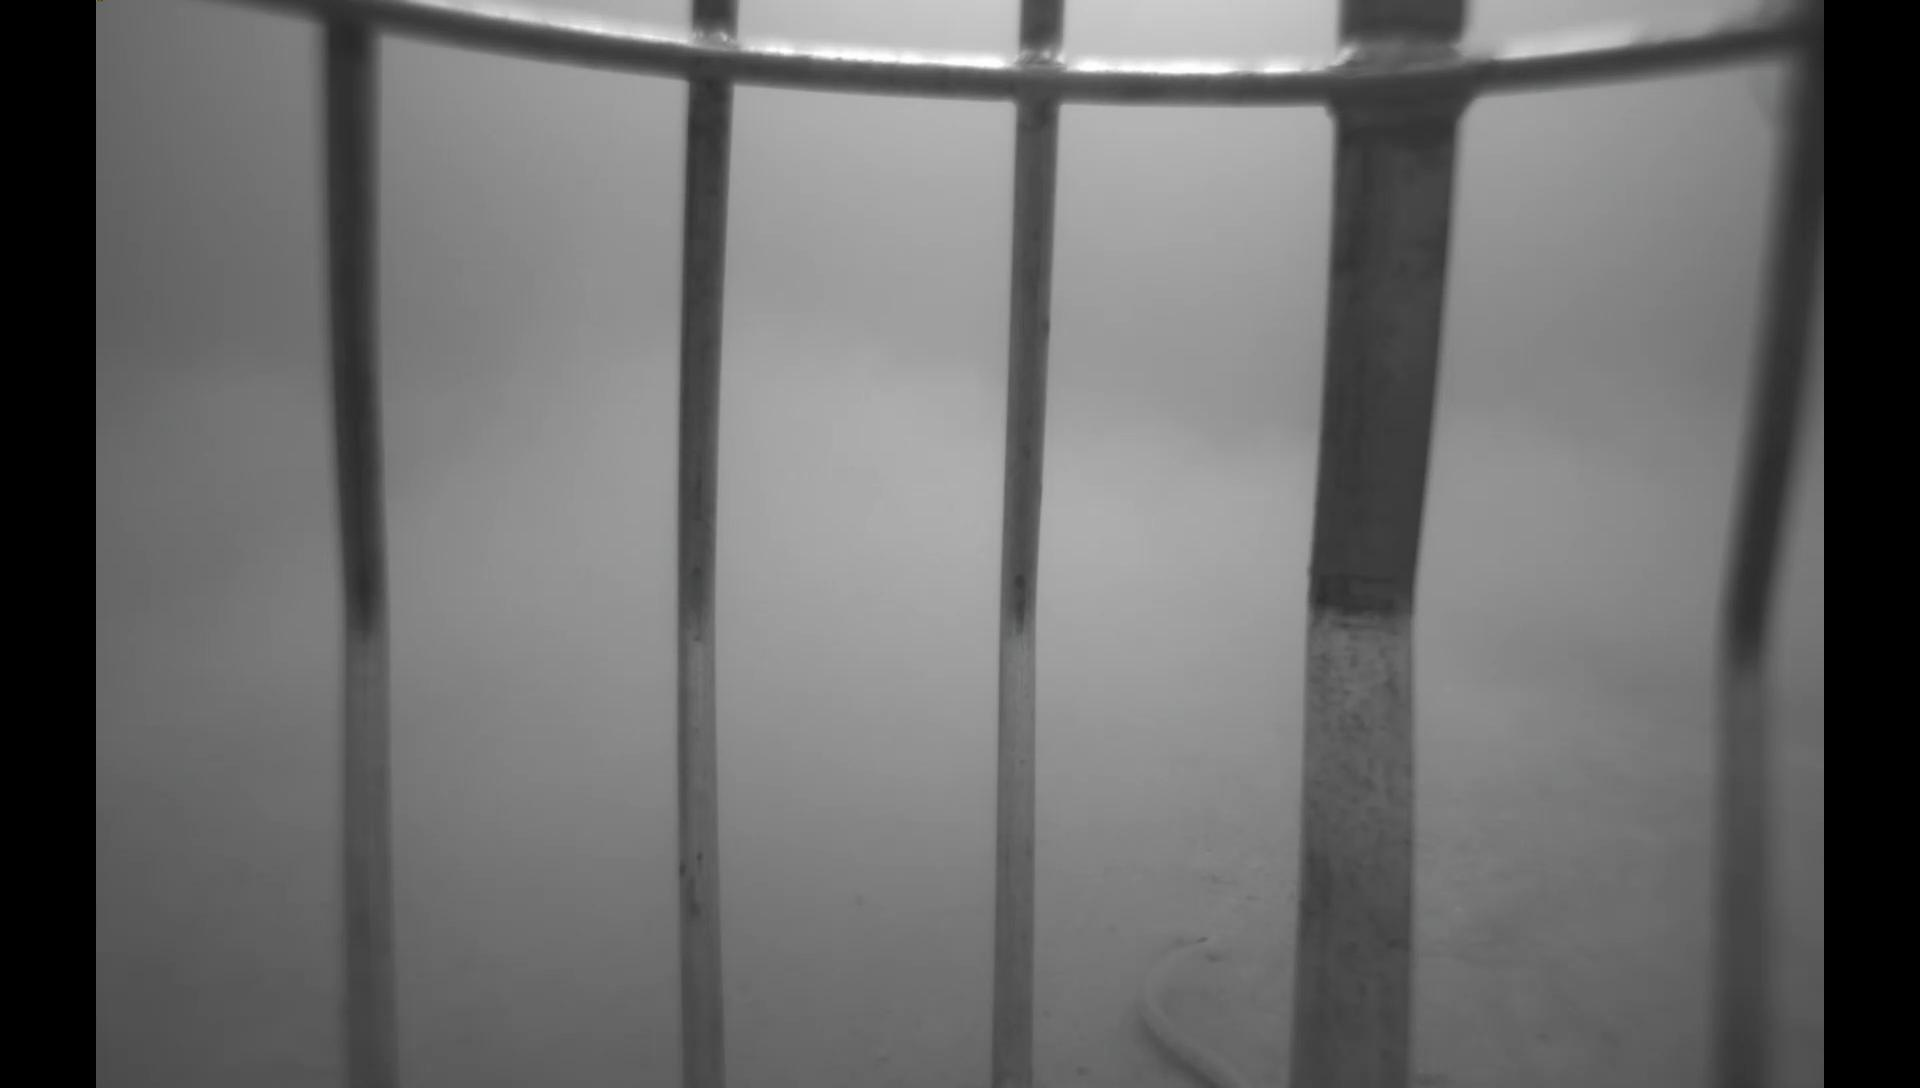OPHICHTHUSPUNCTICEPS-143150402: (1121, 928, 1265, 1088)
